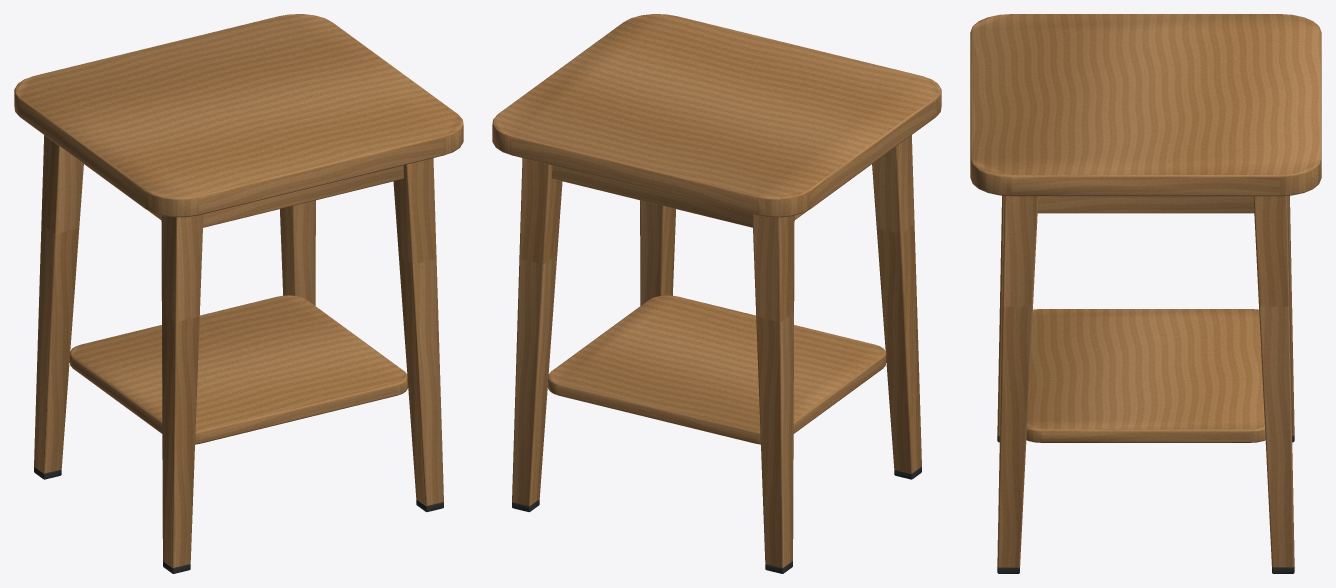
Rendered from side_table.glb.
3 renders of one model, left to right at view 1: azimuth 30°, elevation 25°; view 2: azimuth 150°, elevation 25°; view 3: azimuth 270°, elevation 25°, orthographic. The views are drawn at different scales.
Parts seen in each view (by area): view 1: SM_side_table; view 2: SM_side_table; view 3: SM_side_table.
Part boxes in pixels (x1,y1,x2,y2): SM_side_table: (14, 14, 463, 573); SM_side_table: (492, 14, 941, 573); SM_side_table: (970, 14, 1321, 573).
Bounding box in the file's own units: 0.46 × 0.54 × 0.42.
Materials: 2 (1 with a texture image).
